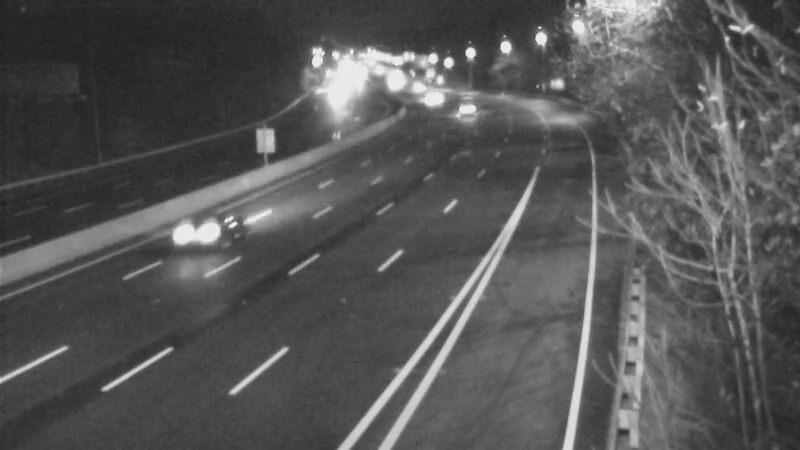vehicle: (156, 196, 236, 276), (407, 75, 457, 125), (441, 81, 491, 131)
